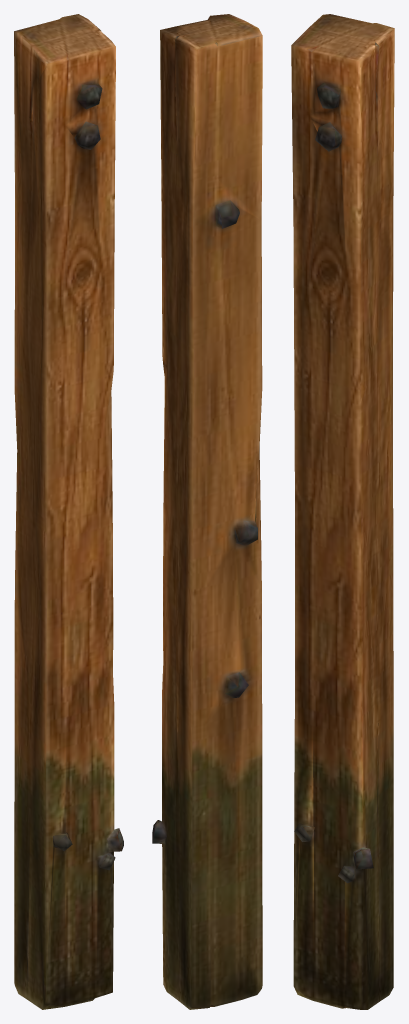
File: tide-post.glb
The picture shows the model from 3 angles, left to right: view 1: azimuth 30°, elevation 25°; view 2: azimuth 210°, elevation 25°; view 3: azimuth 330°, elevation 25°; orthographic projection.
Parts seen in each view (by area): view 1: post; view 2: post; view 3: post.
Part boxes in pixels (bbox=[...]): post: bbox=[14, 14, 123, 1009]; post: bbox=[152, 14, 262, 1009]; post: bbox=[291, 14, 394, 1009].
Bounding box in the file's own units: 0.1666 × 1.9 × 0.167.
1 material, 1 textured.
